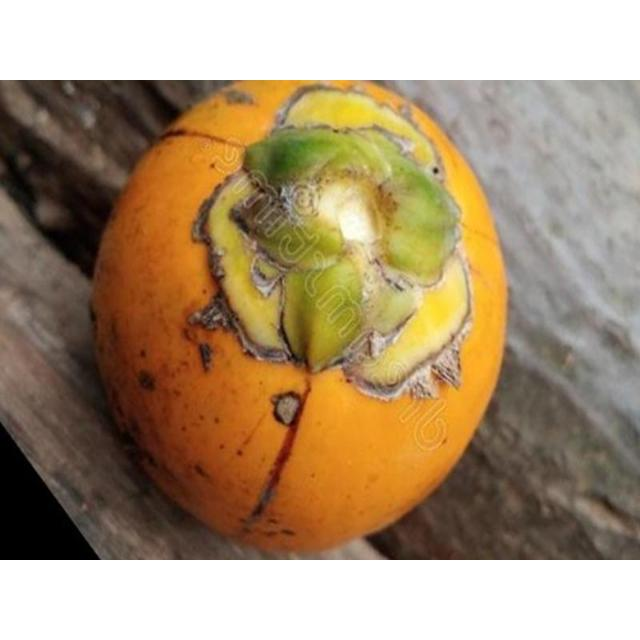good: (92, 80, 508, 554)
